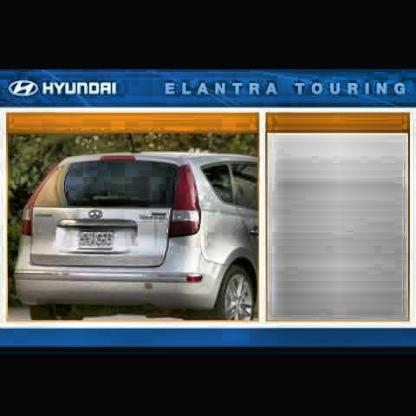Hyundai Elantra Touring Hatchback 2012: (16, 154, 263, 321)
